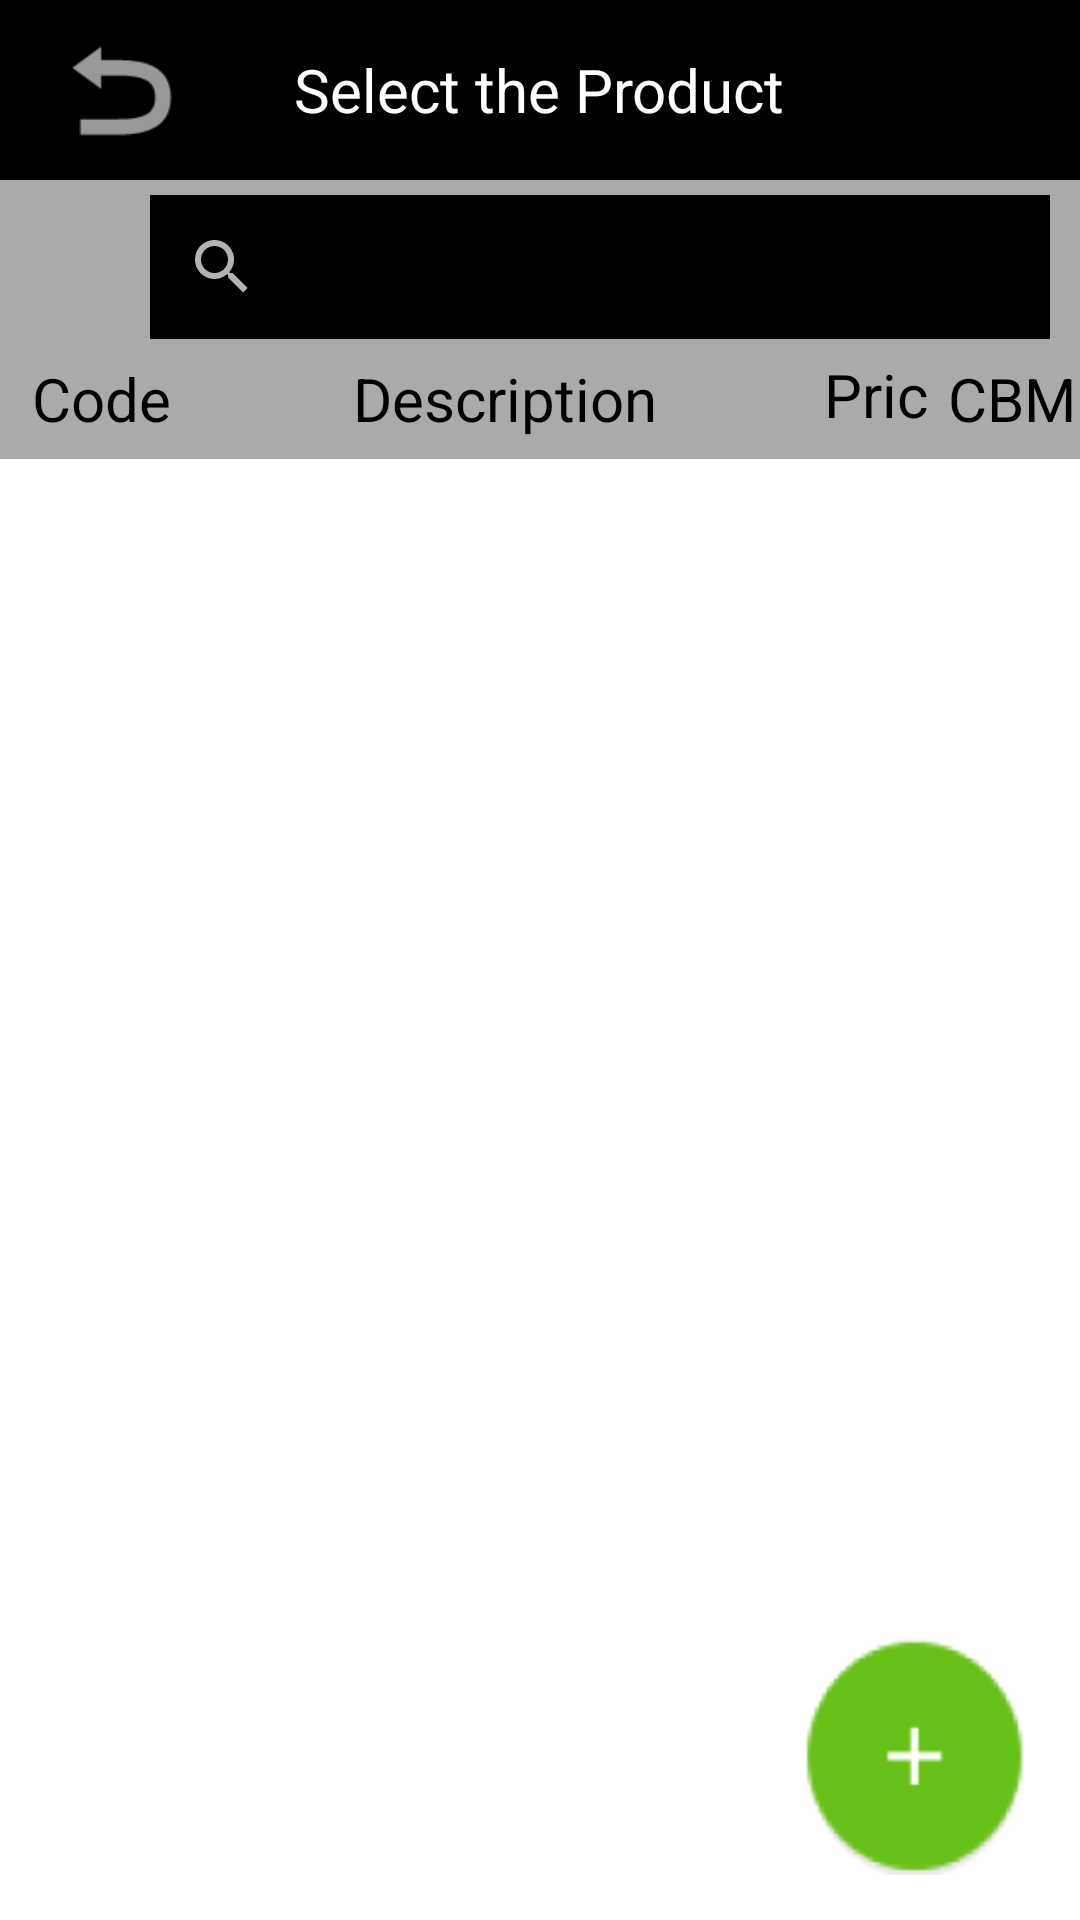

Icon click points for this 1080w x 1920h phone screenshot, format (x=x, y=y):
plus: (x=915, y=1756)
revert: (x=122, y=91)
